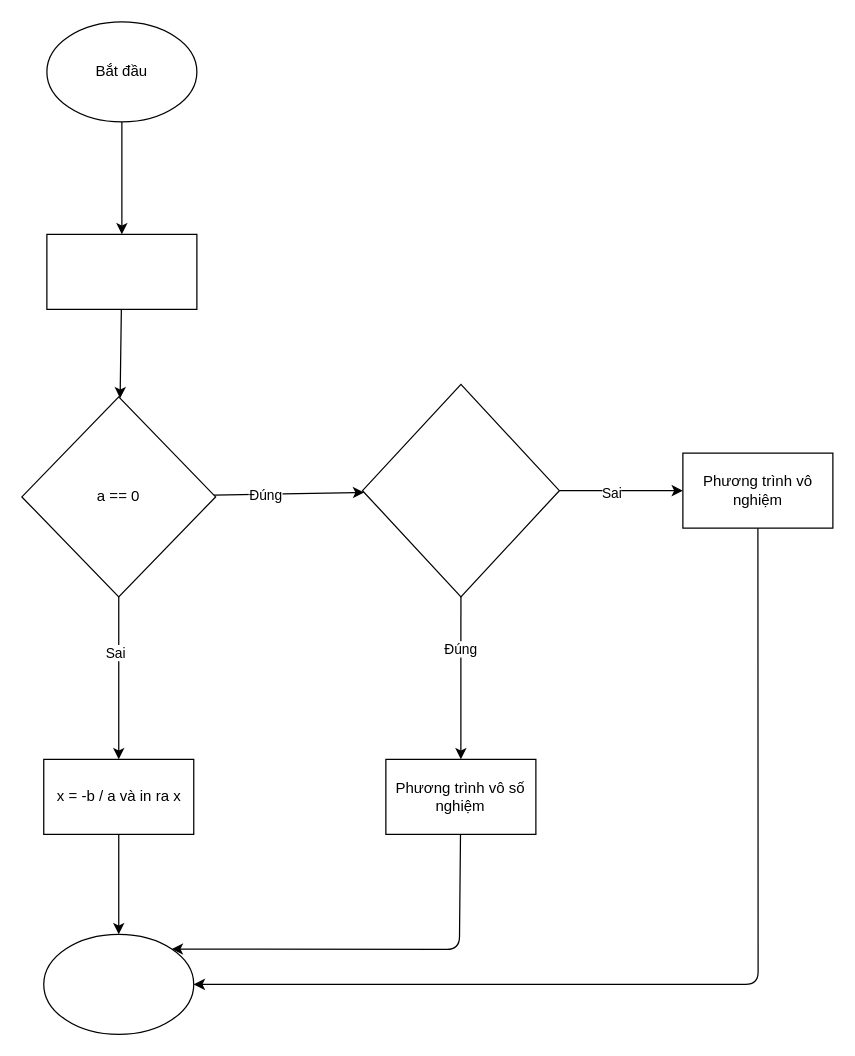
The diagram is 855 pixels wide and 1056 high, and some of its shapes have lost their labels. The shapes that lost their labels are listed below. From the top down, each one's centre as x and y in pixels, then its label:
the point at 121,271: Nhập a và b, khai báo biến x
the point at 460,490: b == 0
the point at 118,983: Kết thúc
